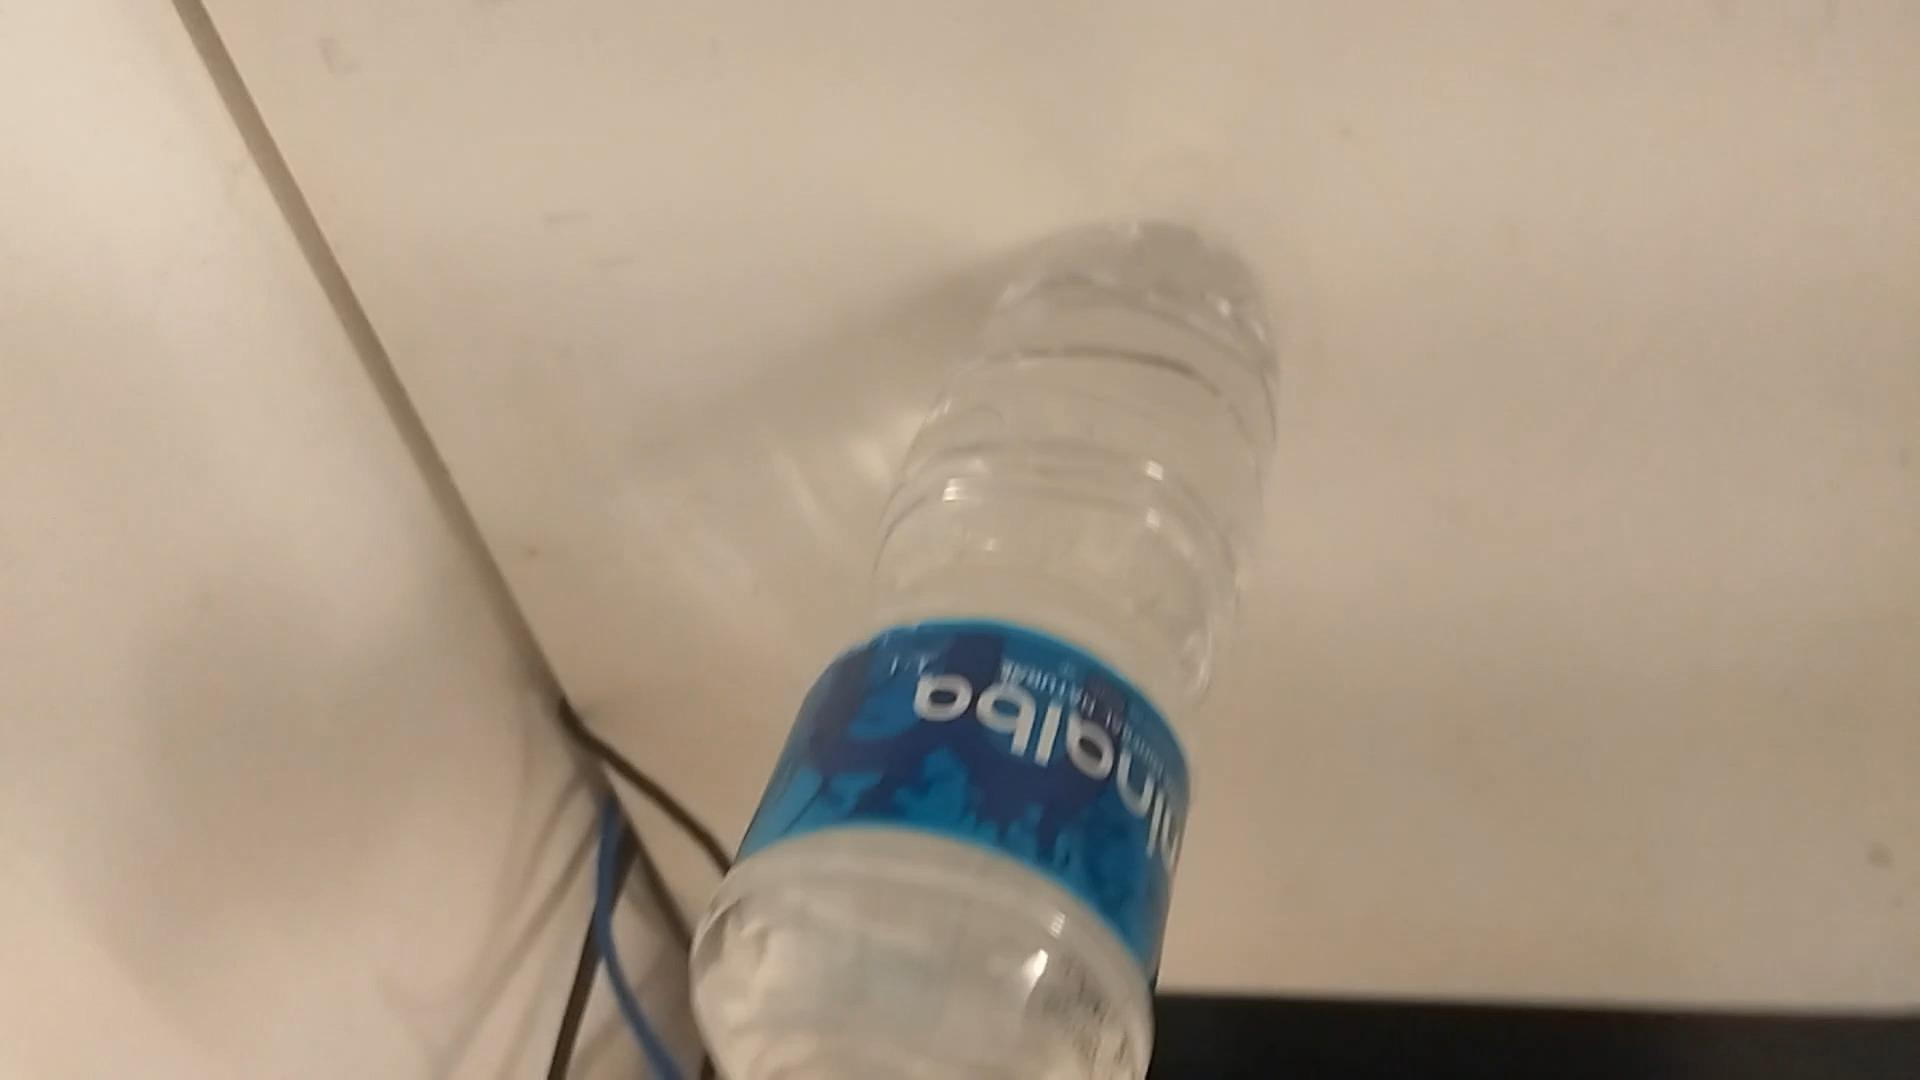agua: (684, 222, 1266, 1080)
